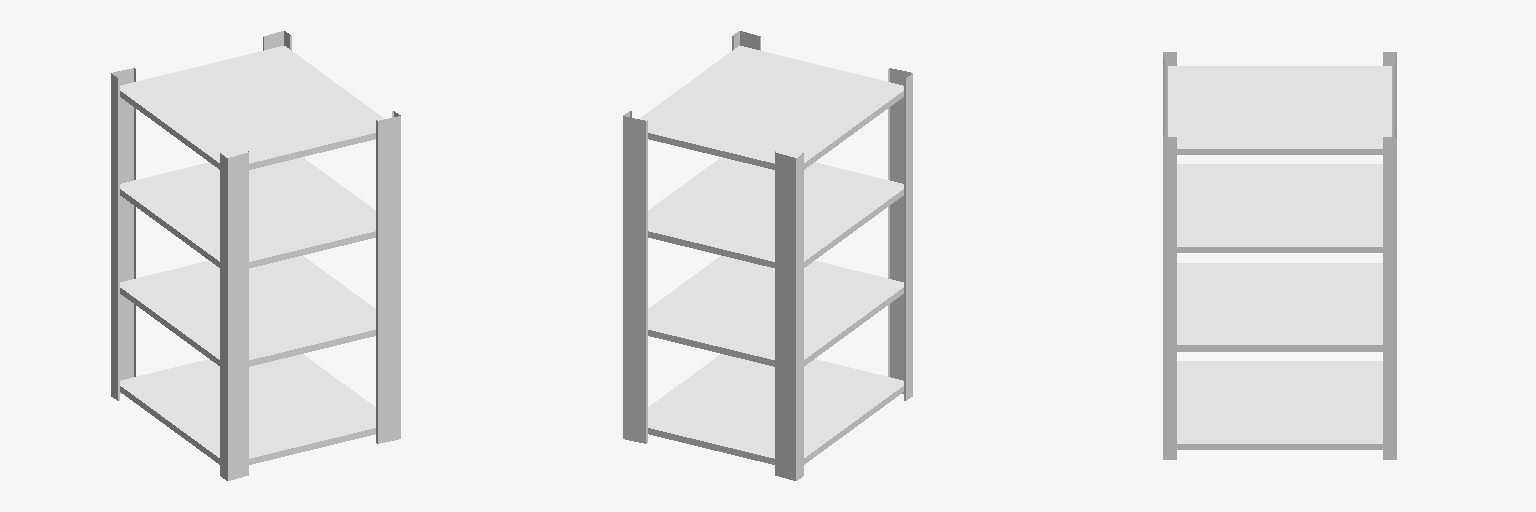
Rendered from MyShelves.obj.
3 views of the same model, side by side, from view 1: azimuth 30°, elevation 25°; view 2: azimuth 150°, elevation 25°; view 3: azimuth 270°, elevation 25° (orthographic).
Visible parts, largest first — view 1: group_0.002_ID18, group_0.005_ID36, group_0_ID4, group_0.003_ID24, group_0.001_ID12, group_0.006_ID42, group_0.007_ID48; view 2: group_0.002_ID18, group_0.005_ID36, group_0_ID4, group_0.003_ID24, group_0.007_ID48, group_0.004_ID30, group_0.001_ID12; view 3: group_0.002_ID18, group_0_ID4, group_0.003_ID24, group_0.005_ID36, group_0.004_ID30, group_0.006_ID42.
Boxes of the visible parts, box(x1,y1,x2,y2) form: group_0.002_ID18: box(120, 46, 383, 169); group_0.005_ID36: box(120, 157, 375, 267); group_0_ID4: box(120, 354, 375, 464); group_0.003_ID24: box(120, 256, 375, 366); group_0.001_ID12: box(220, 151, 248, 480); group_0.006_ID42: box(376, 111, 400, 443); group_0.007_ID48: box(111, 68, 135, 400); group_0.002_ID18: box(640, 46, 903, 169); group_0.005_ID36: box(648, 157, 903, 267); group_0_ID4: box(648, 354, 903, 464); group_0.003_ID24: box(648, 256, 903, 366); group_0.007_ID48: box(775, 151, 803, 480); group_0.004_ID30: box(623, 111, 647, 443); group_0.001_ID12: box(888, 68, 912, 400); group_0.002_ID18: box(1168, 66, 1391, 154); group_0_ID4: box(1177, 361, 1382, 449); group_0.003_ID24: box(1177, 263, 1382, 351); group_0.005_ID36: box(1177, 164, 1382, 252); group_0.004_ID30: box(1383, 126, 1396, 459); group_0.006_ID42: box(1163, 126, 1176, 459).
Size of the model in its own units: 2.03 by 3.61 by 2.36.